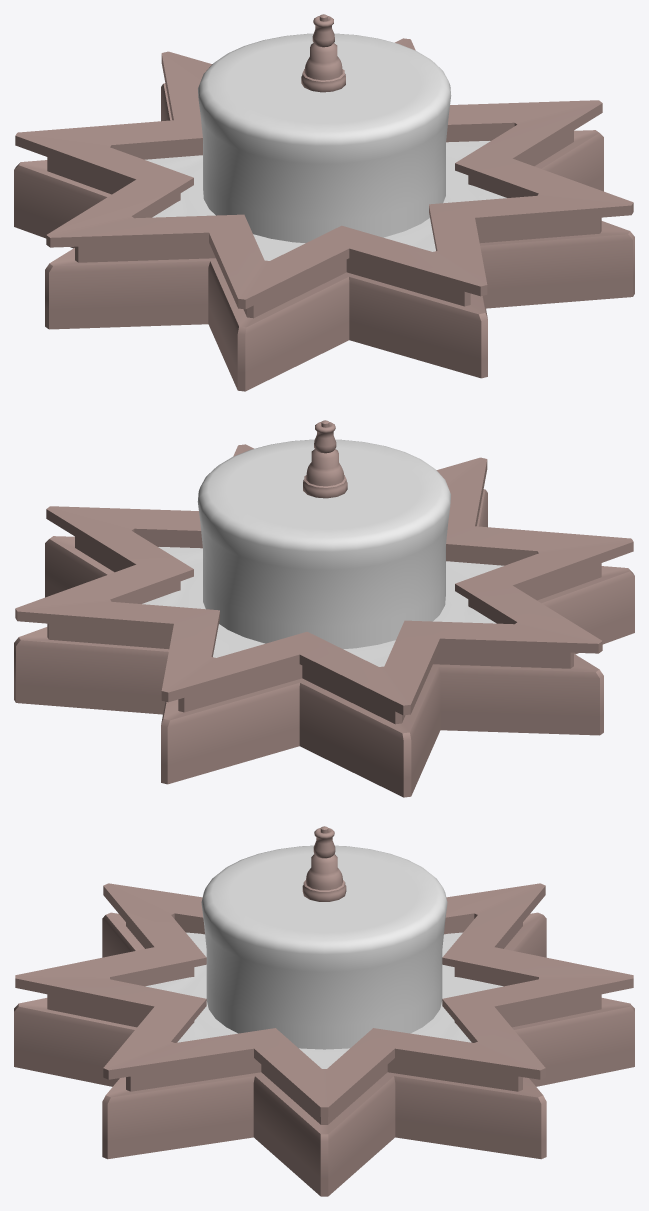
Rendered from water.glb.
The picture shows the model from 3 angles, top to bottom: view 1: azimuth 30°, elevation 25°; view 2: azimuth 150°, elevation 25°; view 3: azimuth 270°, elevation 25°; orthographic projection. The views are drawn at different scales.
Parts seen in each view (by area): view 1: fountain, waterMiddle, waterBottom.2; view 2: fountain, waterMiddle, waterBottom.2; view 3: fountain, waterMiddle, waterBottom.2.
Boxes of the visible parts, x1,y1,x2,y2 form: fountain: [14, 14, 634, 391]; waterMiddle: [198, 33, 451, 243]; waterBottom.2: [145, 141, 506, 260]; fountain: [14, 420, 634, 797]; waterMiddle: [197, 439, 450, 649]; waterBottom.2: [142, 547, 503, 666]; fountain: [14, 826, 634, 1196]; waterMiddle: [201, 845, 447, 1049]; waterBottom.2: [145, 932, 503, 1068].
Bounding box in the file's own units: 3.74 × 1.58 × 3.74.
